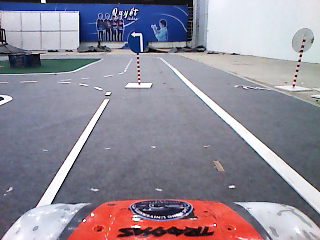turn: (126, 28, 148, 55)
